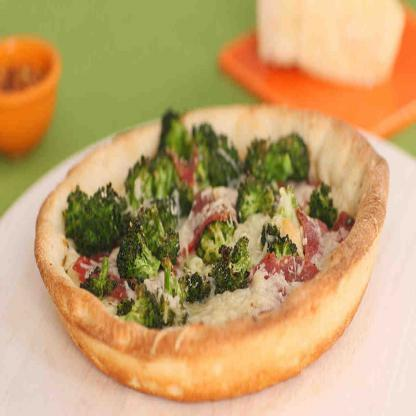broccoli: (61, 108, 339, 328)
